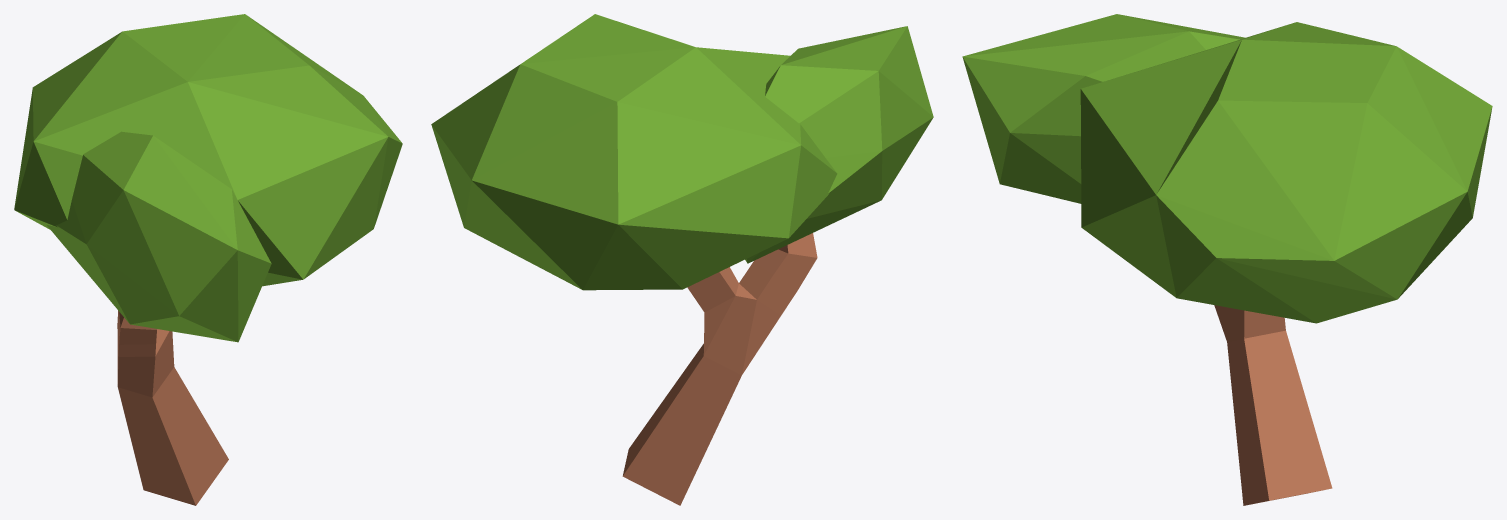
Rendered from oak 6.gltf.
3 renders of one model, left to right at view 1: azimuth 30°, elevation 25°; view 2: azimuth 150°, elevation 25°; view 3: azimuth 270°, elevation 25°, orthographic. The views are drawn at different scales.
Parts seen in each view (by area): view 1: Icosphere.003, Icosphere.004, tree.001; view 2: Icosphere.003, Icosphere.004, tree.001; view 3: Icosphere.003, Icosphere.004, tree.001.
Boxes of the visible parts, x1,y1,x2,y2 form: Icosphere.003: (14, 14, 402, 286); Icosphere.004: (46, 131, 271, 342); tree.001: (117, 310, 228, 505); Icosphere.003: (431, 14, 837, 290); Icosphere.004: (745, 26, 933, 263); tree.001: (622, 233, 817, 505); Icosphere.003: (1080, 22, 1492, 323); Icosphere.004: (962, 14, 1245, 203); tree.001: (1214, 305, 1332, 505).
Size of the model in its own units: 5.63 by 6.36 by 6.62.
1 material, 1 textured.
